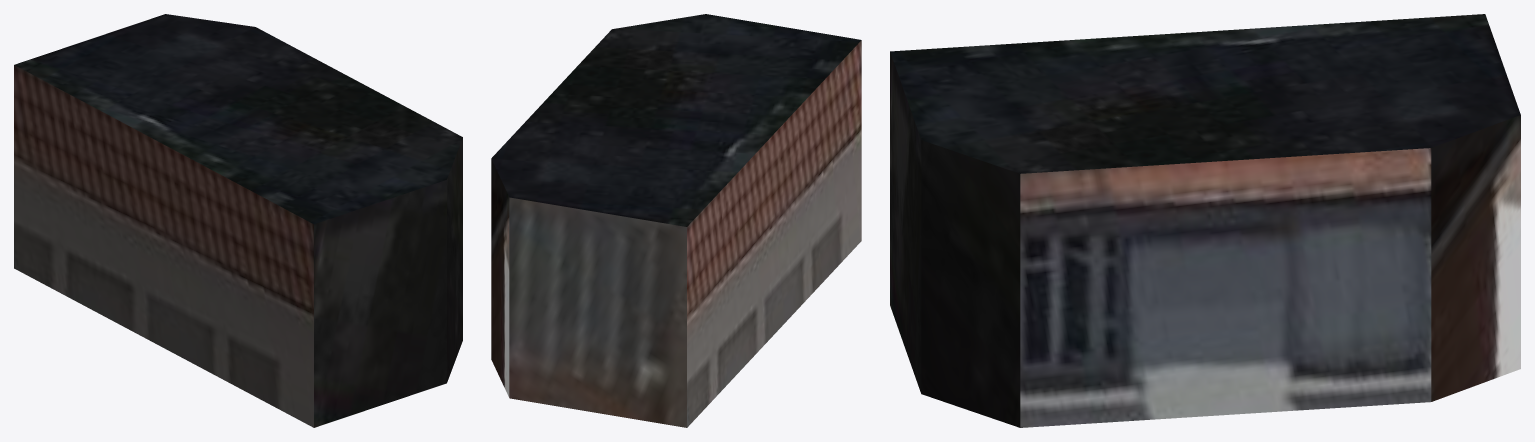
3 renders of one model, left to right at view 1: azimuth 30°, elevation 25°; view 2: azimuth 150°, elevation 25°; view 3: azimuth 270°, elevation 25°, orthographic. The views are drawn at different scales.
Visible parts, largest first — view 1: Z_UP; view 2: Z_UP; view 3: Z_UP.
Boxes of the visible parts, left/top/right/bottom form: Z_UP: left=14, top=14, right=462, bottom=427; Z_UP: left=491, top=14, right=861, bottom=427; Z_UP: left=890, top=14, right=1520, bottom=427.
Size of the model in its own units: 4.58 by 3.4 by 7.64.
2 materials, 1 textured.
